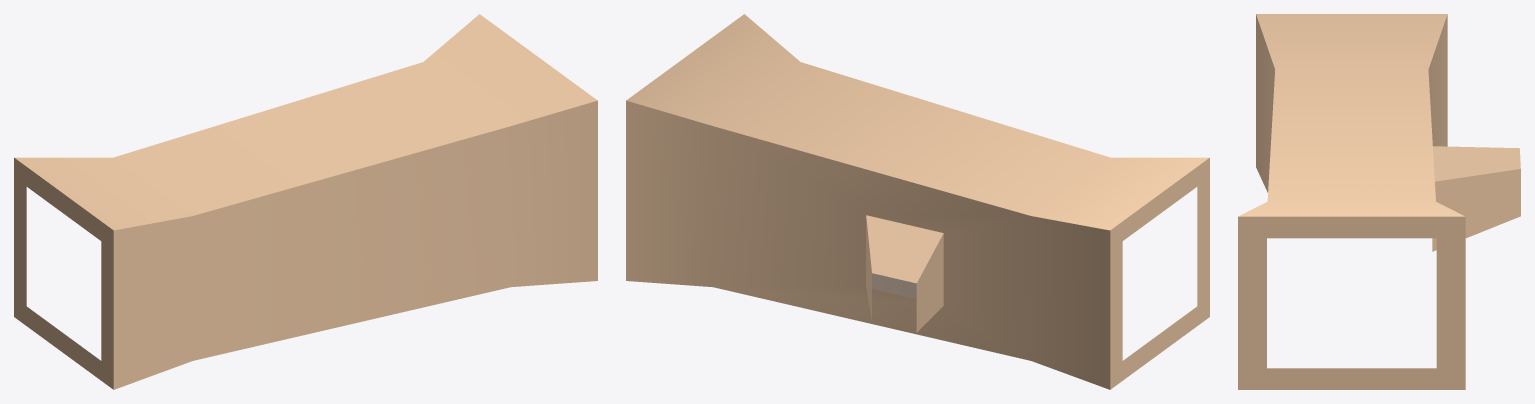
The model's file is log_large.glb.
3 renders of one model, left to right at view 1: azimuth 30°, elevation 25°; view 2: azimuth 150°, elevation 25°; view 3: azimuth 270°, elevation 25°, orthographic. The views are drawn at different scales.
Visible parts, largest first — view 1: log_large; view 2: log_large; view 3: log_large.
Part boxes in pixels (box(x1,y1,x2,y2)): log_large: box(14, 14, 597, 389); log_large: box(626, 14, 1209, 389); log_large: box(1238, 14, 1520, 389).
Bounding box in the file's own units: 7.66 × 2.78 × 4.11.
